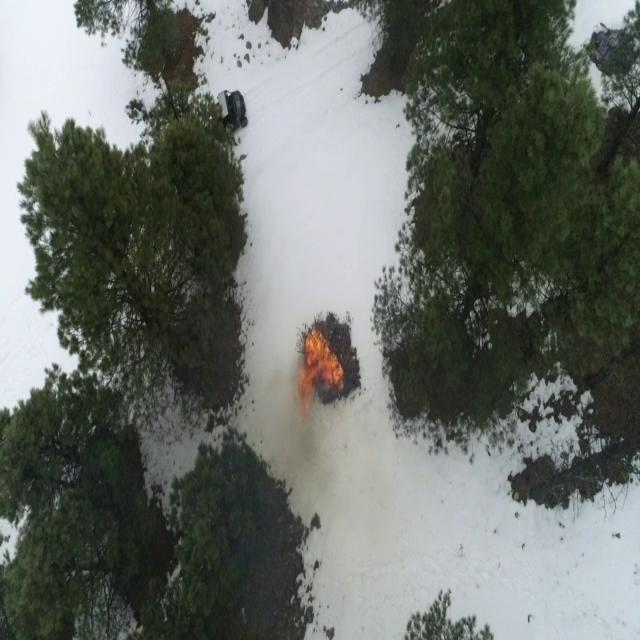fire: (298, 327, 344, 403)
